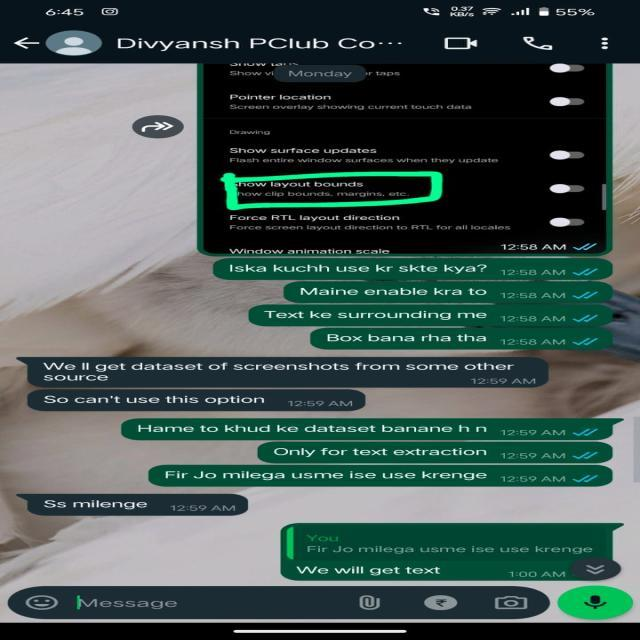scam: (34, 354, 536, 388), (36, 389, 297, 410), (32, 496, 169, 516)
